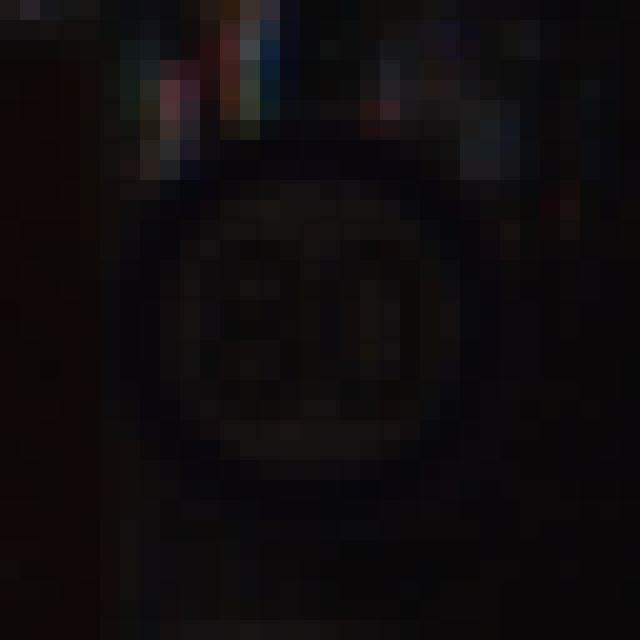SPEED-LIMIT-80: (132, 145, 486, 495)
